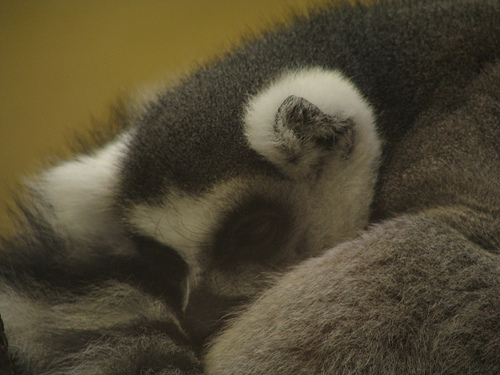cat: (0, 4, 499, 374)
